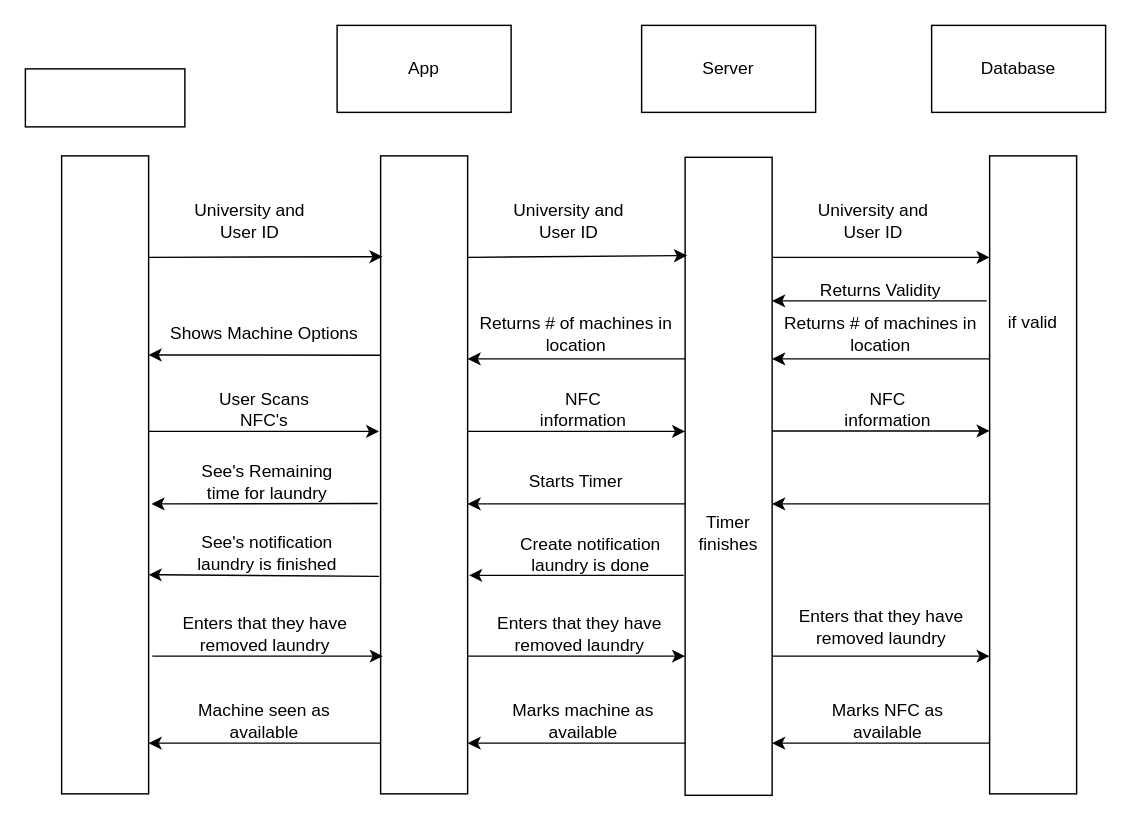
Some shapes in this 1131 by 821 pixel diagram are drawn without their labels. The shapes that lost their labels are listed below. From the top down, each one's centre as x and y in pixels, then its label:
pixel 104 97: User
pixel 1032 474: Marks NFC as unavailable
